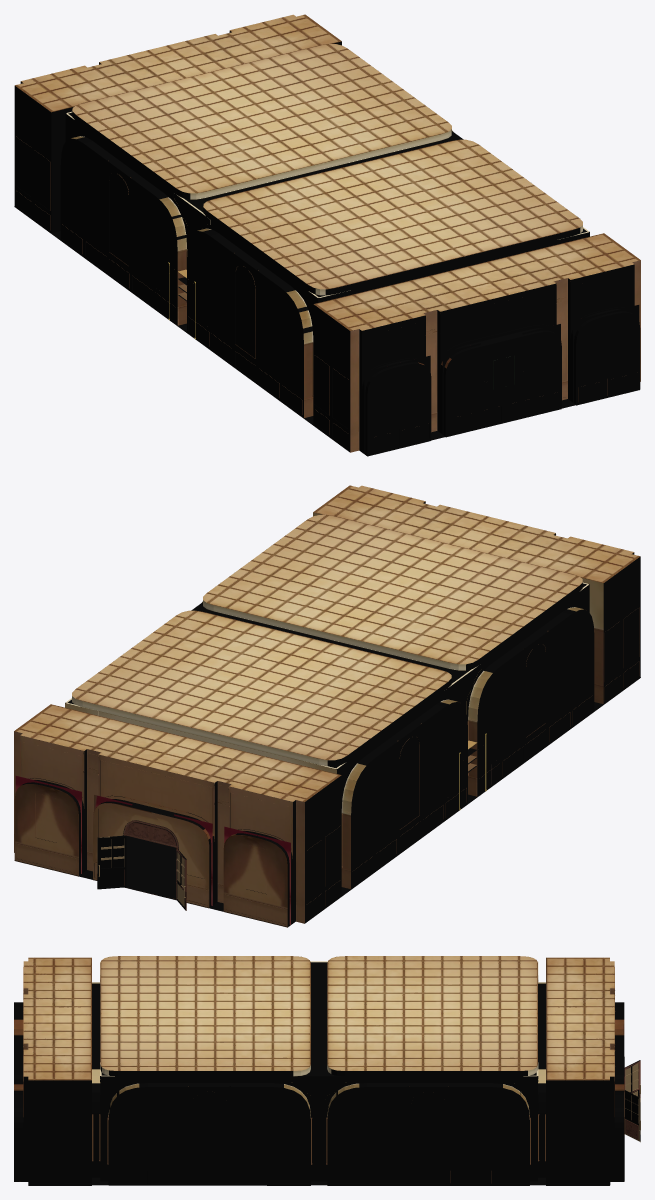
The model's file is Casino-transformed.glb.
The picture shows the model from 3 angles, top to bottom: view 1: azimuth 30°, elevation 25°; view 2: azimuth 150°, elevation 25°; view 3: azimuth 270°, elevation 25°; orthographic projection. The views are drawn at different scales.
Visible parts, largest first — view 1: instance_0.3488, instance_0, instance_0.736, instance_0.1885; view 2: instance_0.3488, instance_0, instance_0.736, instance_0.1885; view 3: instance_0, instance_0.3488, instance_0.736.
Boxes of the visible parts, x1,y1,x2,y2 form: instance_0.3488: (15, 14, 640, 330); instance_0: (14, 31, 640, 456); instance_0.736: (16, 130, 640, 452); instance_0.1885: (66, 111, 588, 389); instance_0.3488: (14, 485, 639, 801); instance_0: (14, 501, 640, 927); instance_0.736: (14, 512, 639, 927); instance_0.1885: (66, 582, 588, 829); instance_0: (14, 958, 640, 1185); instance_0.3488: (23, 956, 614, 1080); instance_0.736: (14, 967, 640, 1183).
Bounding box in the file's own units: 12.33 × 5.17 × 26.51.
13 materials, 12 textured.
